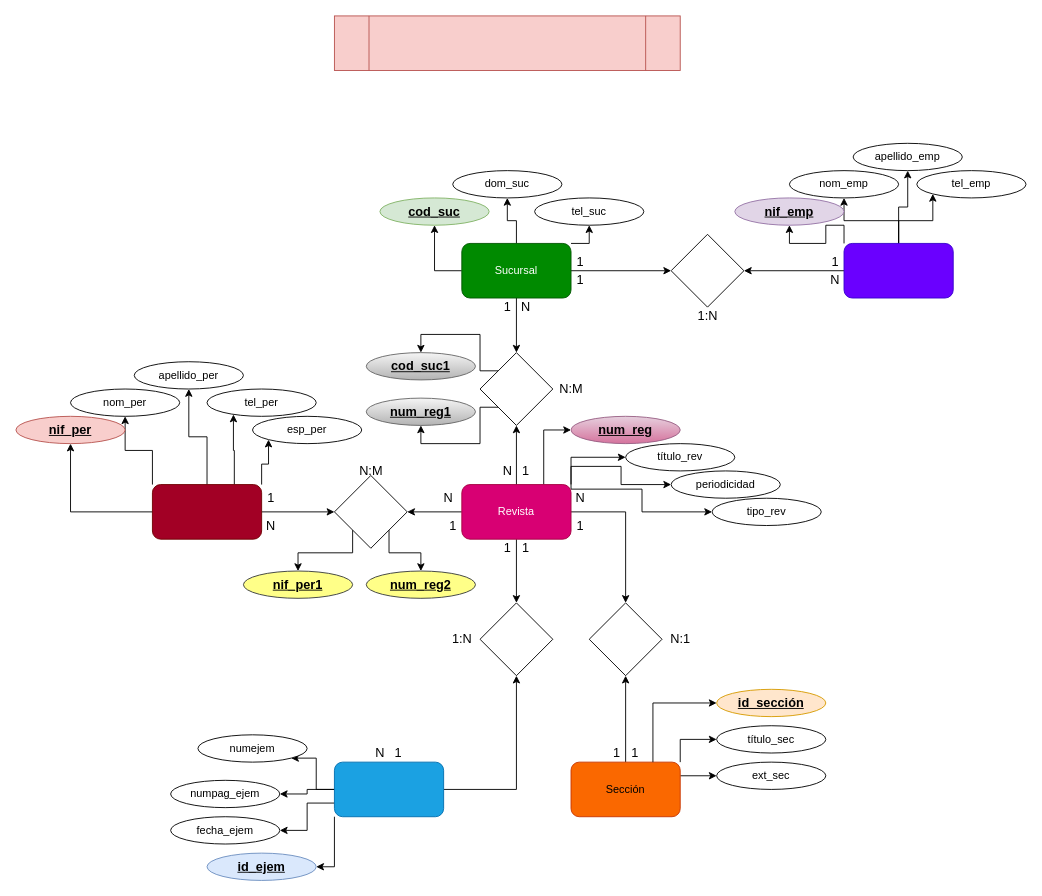
Some shapes in this 1042 by 896 pixel diagram are drawn without their labels. Each missing label, with the centre of its shape:
"Almacena" goes at point (516, 639).
"Ejemplar" goes at point (389, 789).
"Empleado" goes at point (898, 270).
"Escribe" goes at point (370, 511).
"Guarda" goes at point (625, 639).
"Periodista" goes at point (207, 511).
"PROVEEDORES" goes at point (507, 43).
"Publica" goes at point (516, 388).
"Trabaja" goes at point (707, 270).
